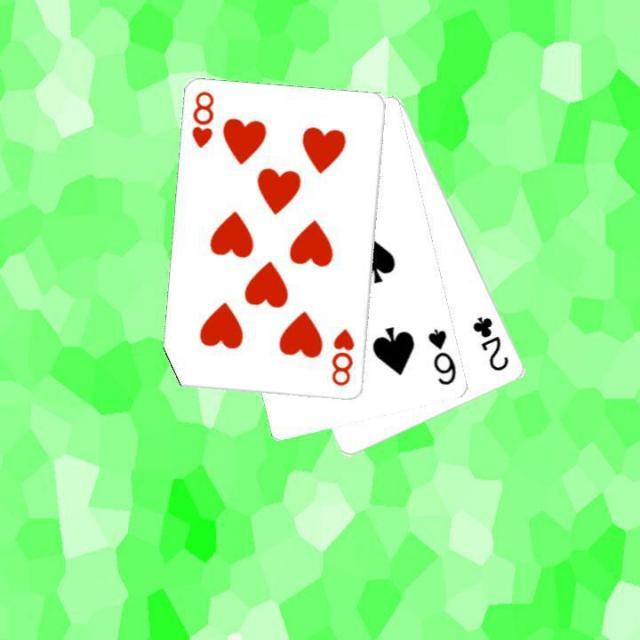2C: (468, 313, 512, 373)
6S: (424, 324, 459, 388)
8H: (328, 326, 356, 388), (188, 88, 216, 150)
